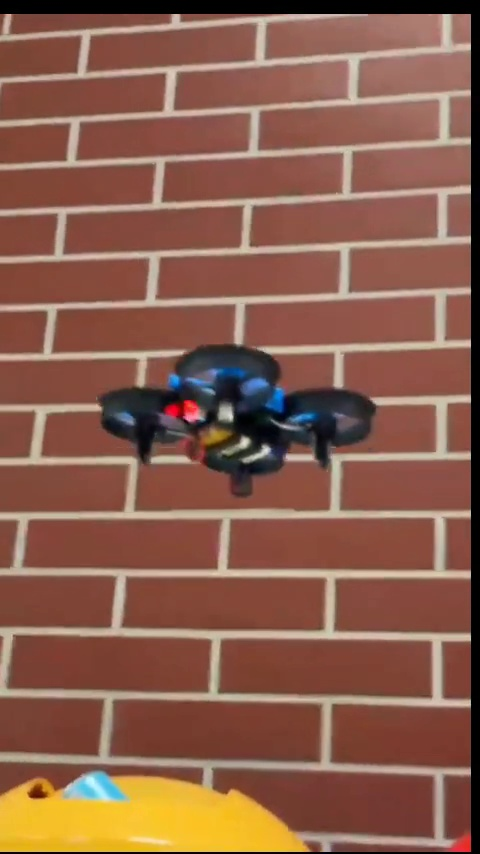drone: (103, 343, 378, 500)
